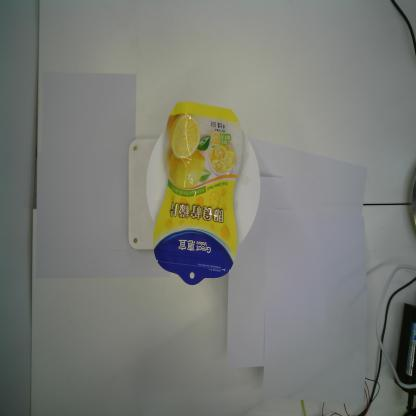Dried Fruit: (151, 100, 244, 287)
